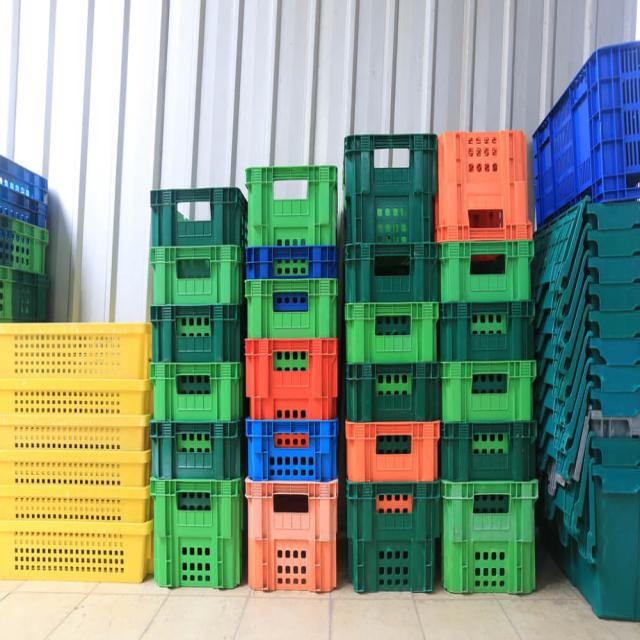plastic: (534, 36, 640, 617), (440, 125, 540, 598), (345, 126, 443, 598), (244, 162, 343, 591), (0, 317, 152, 583), (150, 184, 245, 588), (0, 150, 51, 322)
